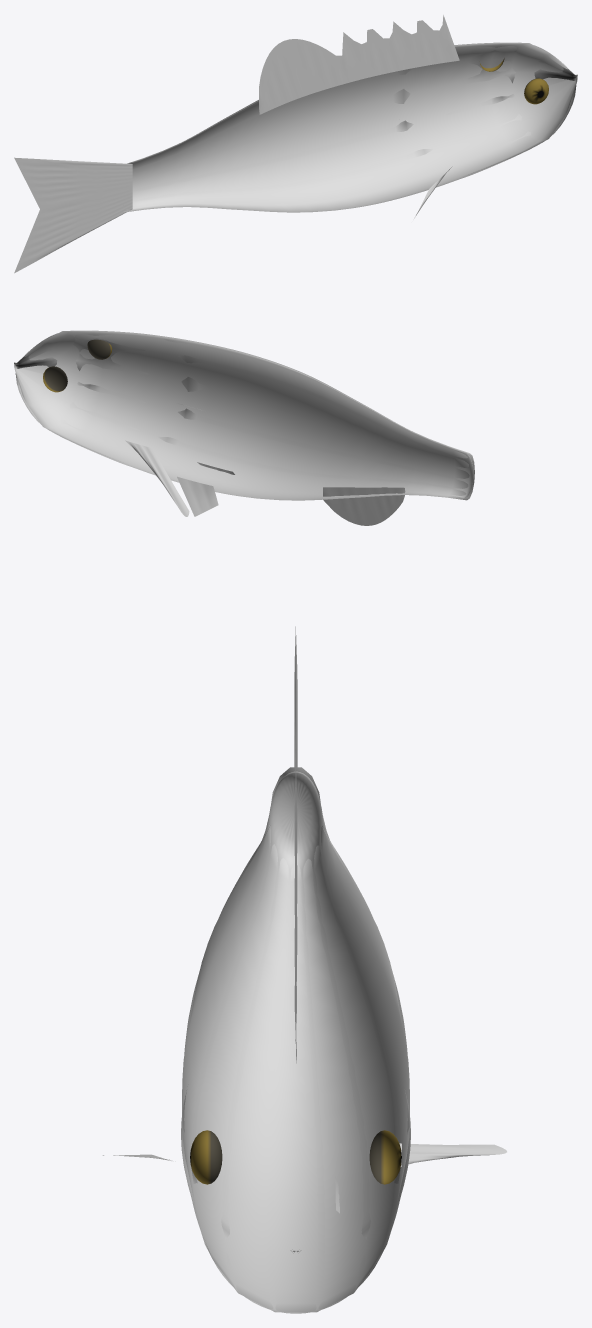
The model's file is smallmouth-bass.glb.
The picture shows the model from 3 angles, top to bottom: view 1: azimuth 30°, elevation 25°; view 2: azimuth 150°, elevation 25°; view 3: azimuth 270°, elevation 25°; orthographic projection. The views are drawn at different scales.
Visible parts, largest first — view 1: BodyLow, Fins, Body, Eyes; view 2: BodyLow, Body, Fins, Eyes; view 3: BodyLow, Body, Fins, Eyes.
Boxes of the visible parts, left/top/right/bottom form: BodyLow: left=124, top=42, right=577, bottom=212; Fins: left=14, top=15, right=459, bottom=273; Body: left=126, top=42, right=577, bottom=212; Eyes: left=480, top=58, right=548, bottom=104; BodyLow: left=14, top=330, right=474, bottom=500; Body: left=14, top=330, right=473, bottom=500; Fins: left=125, top=403, right=405, bottom=525; Eyes: left=43, top=339, right=112, bottom=392; BodyLow: left=182, top=767, right=409, bottom=1312; Body: left=181, top=771, right=410, bottom=1313; Fins: left=103, top=626, right=506, bottom=1213; Eyes: left=190, top=1130, right=401, bottom=1184.
Bounding box in the file's own units: 0.6165 × 0.2069 × 0.2001.
